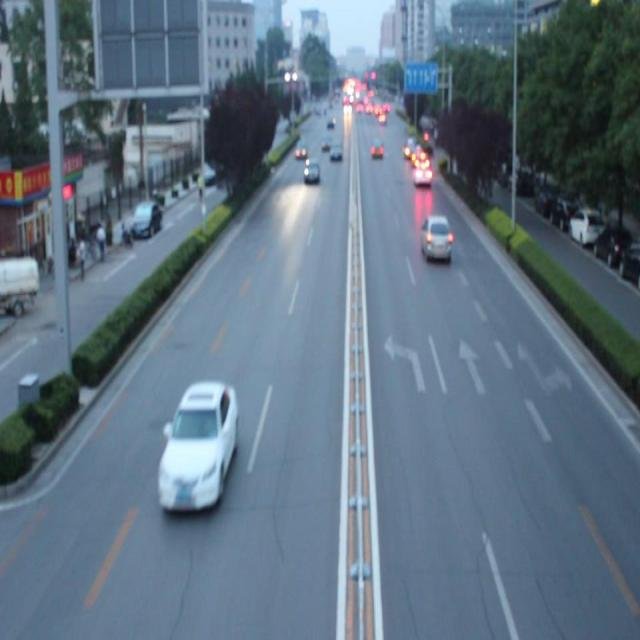car: (156, 380, 237, 512), (420, 212, 452, 262)
